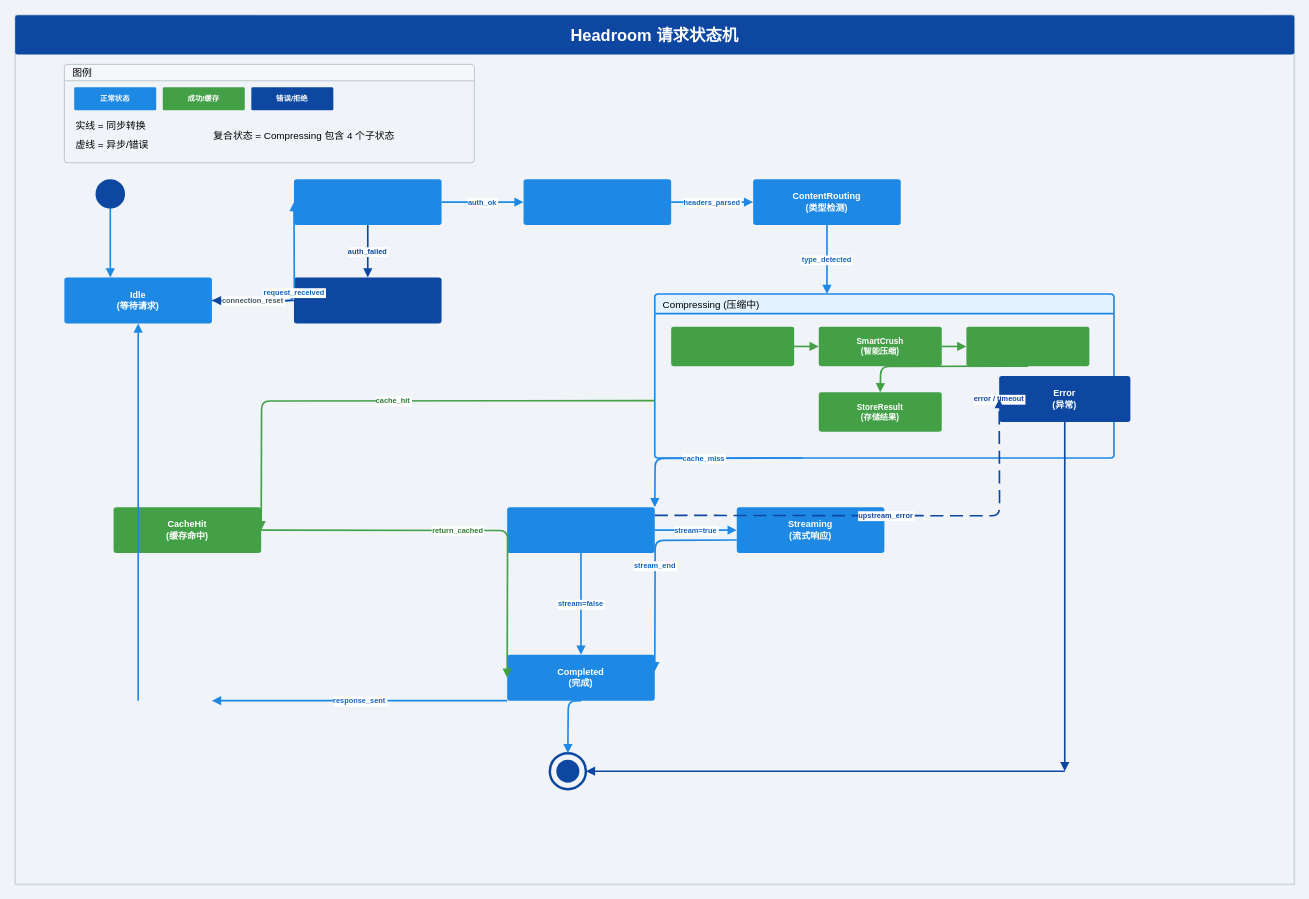
The diagram is 1309 pixels wide and 899 high, and some of its shapes have lost their labels. Each missing label, with the centre of its shape:
"Authenticating (认证中)" belongs at [367,202].
"CacheLookup (缓存查询)" belongs at [732,346].
"Forwarding (转发中)" belongs at [580,530].
"LiveZone (活动区压缩)" belongs at [1027,346].
"Parsing (解析请求)" belongs at [597,202].
"Rejected (认证失败)" belongs at [367,300].
